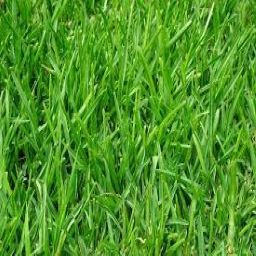grass: (2, 6, 251, 248)
